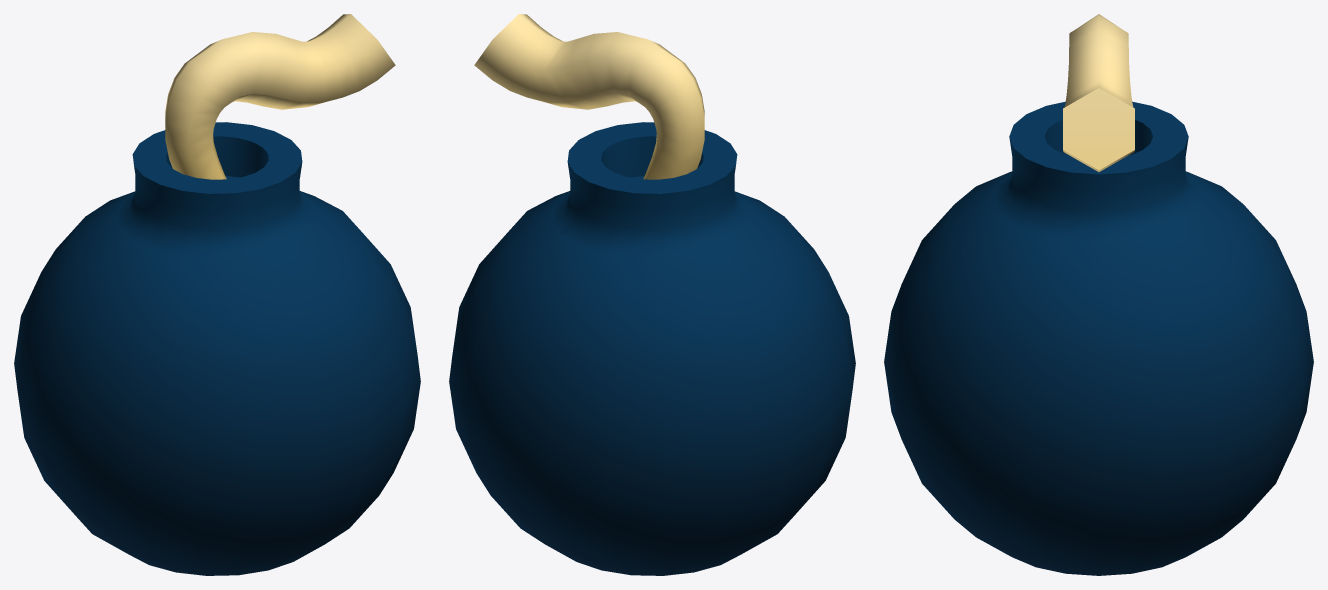
File: scene_bvWvP8eAVL.glb
3 renders of one model, left to right at view 1: azimuth 30°, elevation 25°; view 2: azimuth 150°, elevation 25°; view 3: azimuth 270°, elevation 25°, orthographic. The views are drawn at different scales.
Parts seen in each view (by area): view 1: Collectable_Bomb_01; view 2: Collectable_Bomb_01; view 3: Collectable_Bomb_01.
Part boxes in pixels (left/top/right/bottom): Collectable_Bomb_01: left=14, top=14, right=420, bottom=575; Collectable_Bomb_01: left=449, top=14, right=855, bottom=575; Collectable_Bomb_01: left=884, top=14, right=1313, bottom=575.
Size of the model in its own units: 0.6737 by 0.9403 by 0.6737.
1 material, 1 textured.
